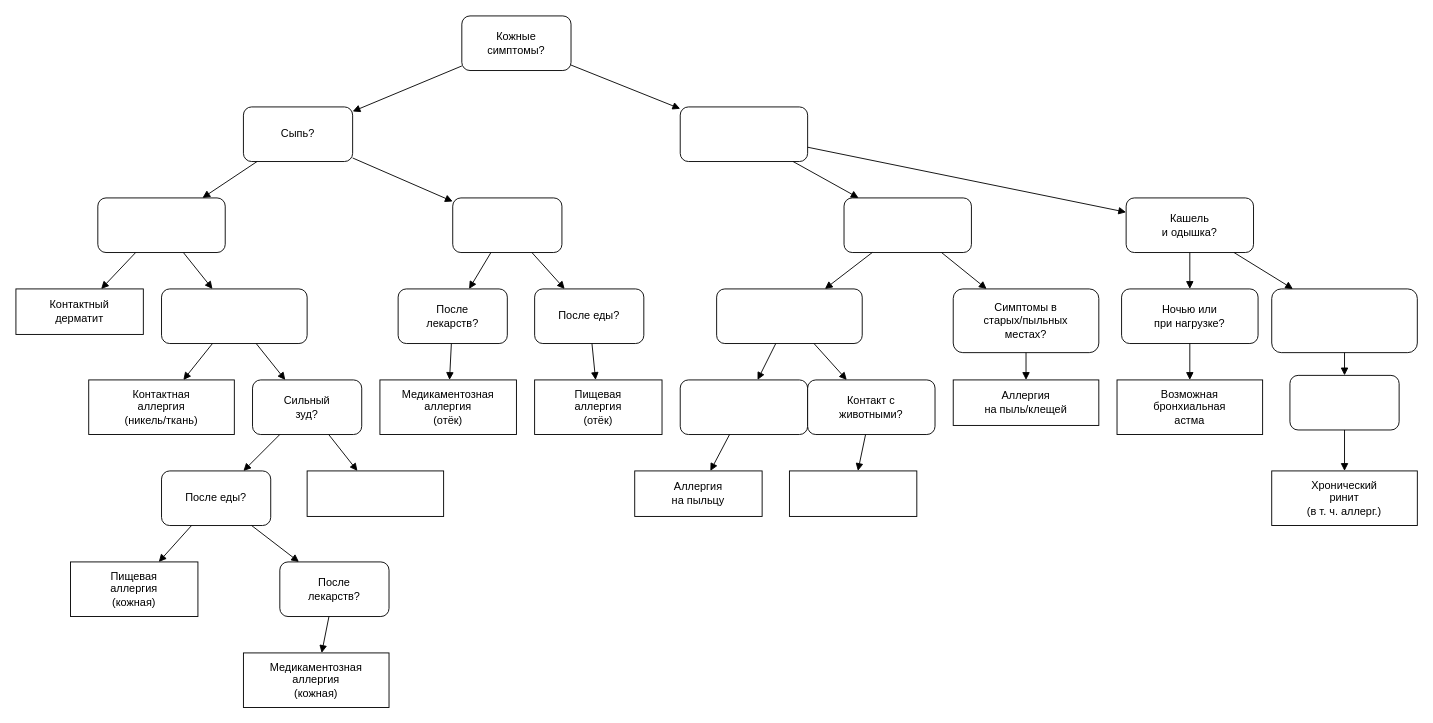
This 1433x723 diagram has some shape labels left out. Each missing label, with the box of its shape:
Аллергия на животных: (789, 470, 917, 516)
Весна/лето на улице?: (679, 379, 808, 435)
Заложенность носа без чихания?: (1271, 288, 1417, 353)
Контакт с веществом?: (97, 197, 225, 253)
Круглый год?: (1289, 374, 1399, 430)
Лёгкая кожная реакция: (306, 470, 444, 516)
Отёки?: (452, 197, 562, 253)
Респираторные симптомы?: (679, 106, 808, 162)
Слезотечение и зуд глаз?: (716, 288, 862, 344)
Сыпь после одежды/металла?: (161, 288, 307, 344)
Чихание и насморк?: (843, 197, 971, 253)
